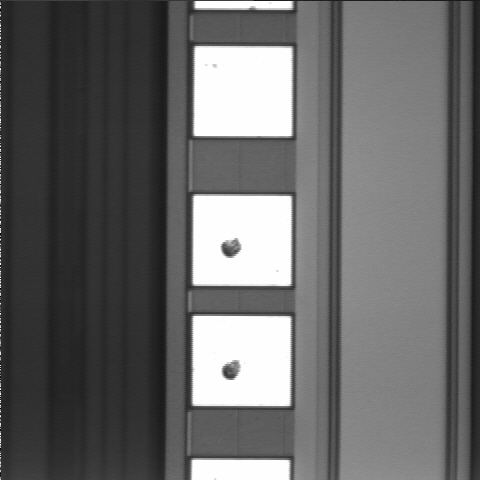pad: (194, 46, 292, 136), (193, 196, 291, 286), (193, 316, 291, 406)
